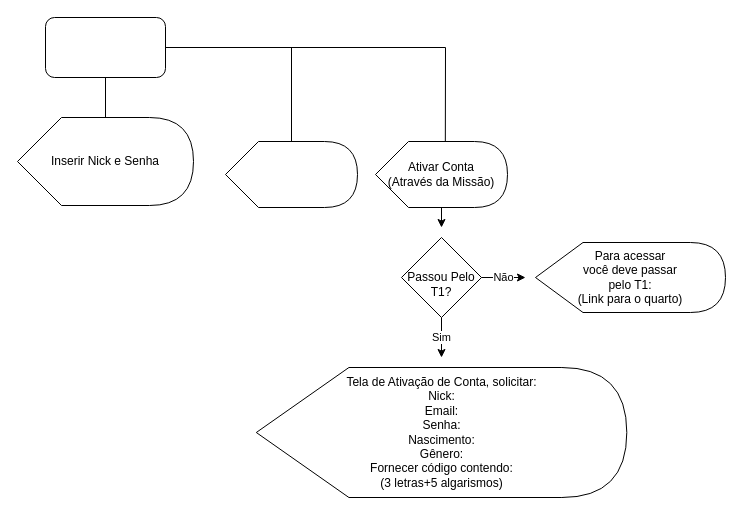
Image size: 743x515. Some labels were removed from this diagram. The centre of each missing label's shape, as x and y in pixels:
"Esqueci minha senha" goes at (291,174).
"Tela de Login" goes at (105,47).
